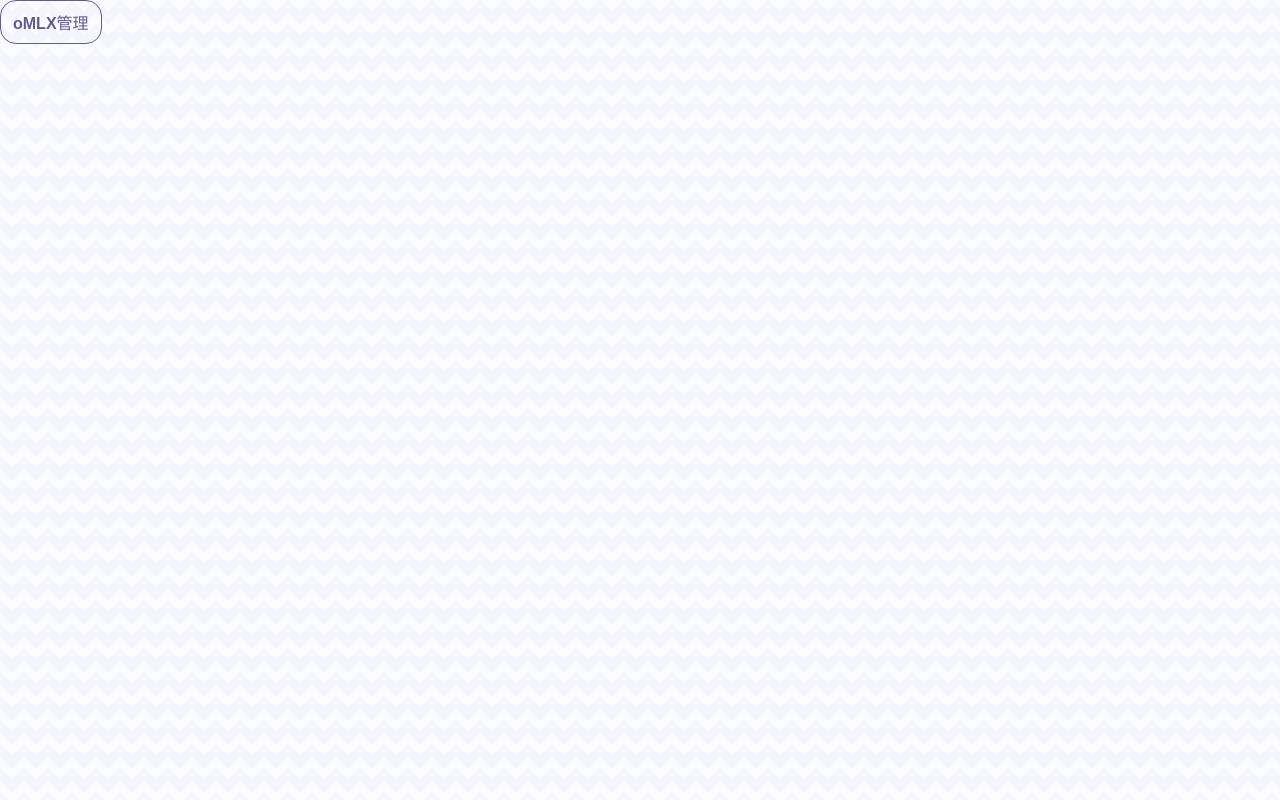
opens management without installing or fetching releases and supports empty state
The width and height of the screenshot is (1280, 800).
Step 1. Click the button "oMLX管理" → (51, 22), box [0,0,102,44]
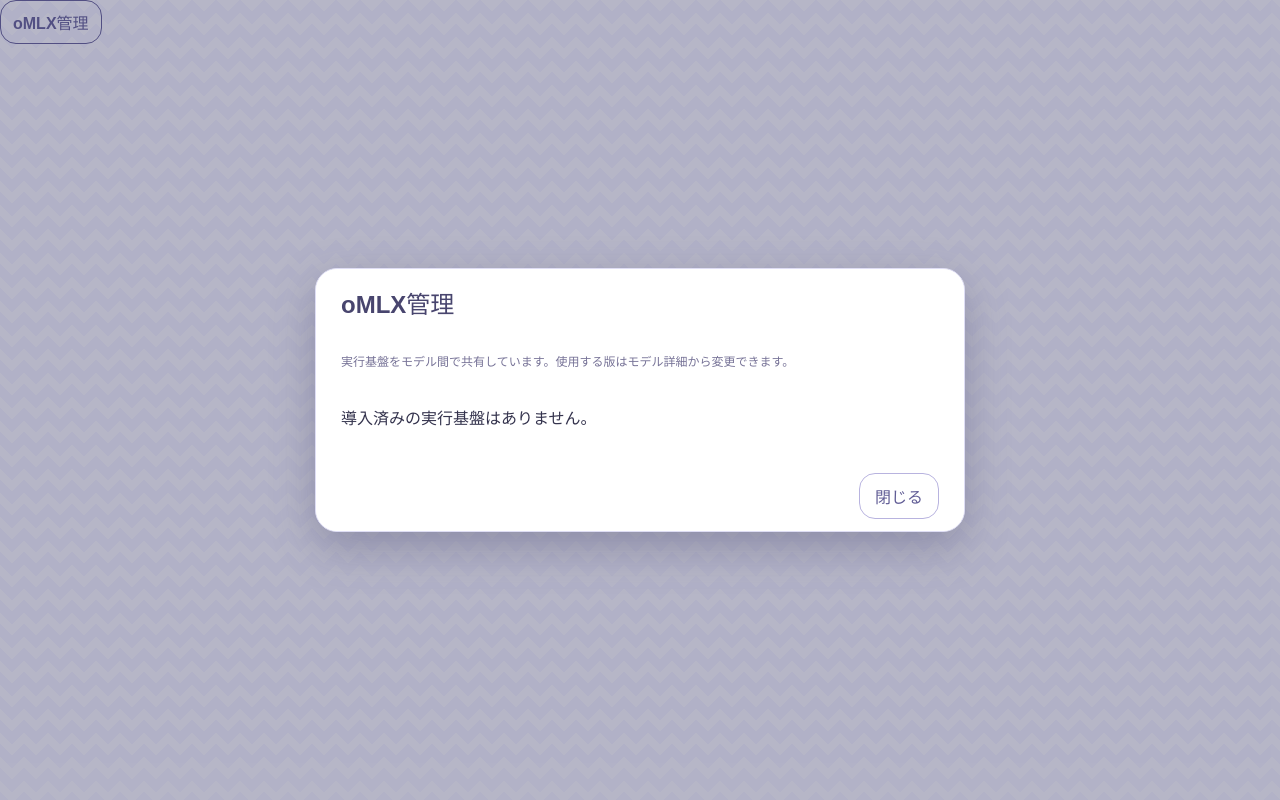
Expected: the text "導入済みの実行基盤はありません。" is shown, [341,410,596,427]
Step 2. Click the button "閉じる" → (899, 496), box [859,473,939,519]
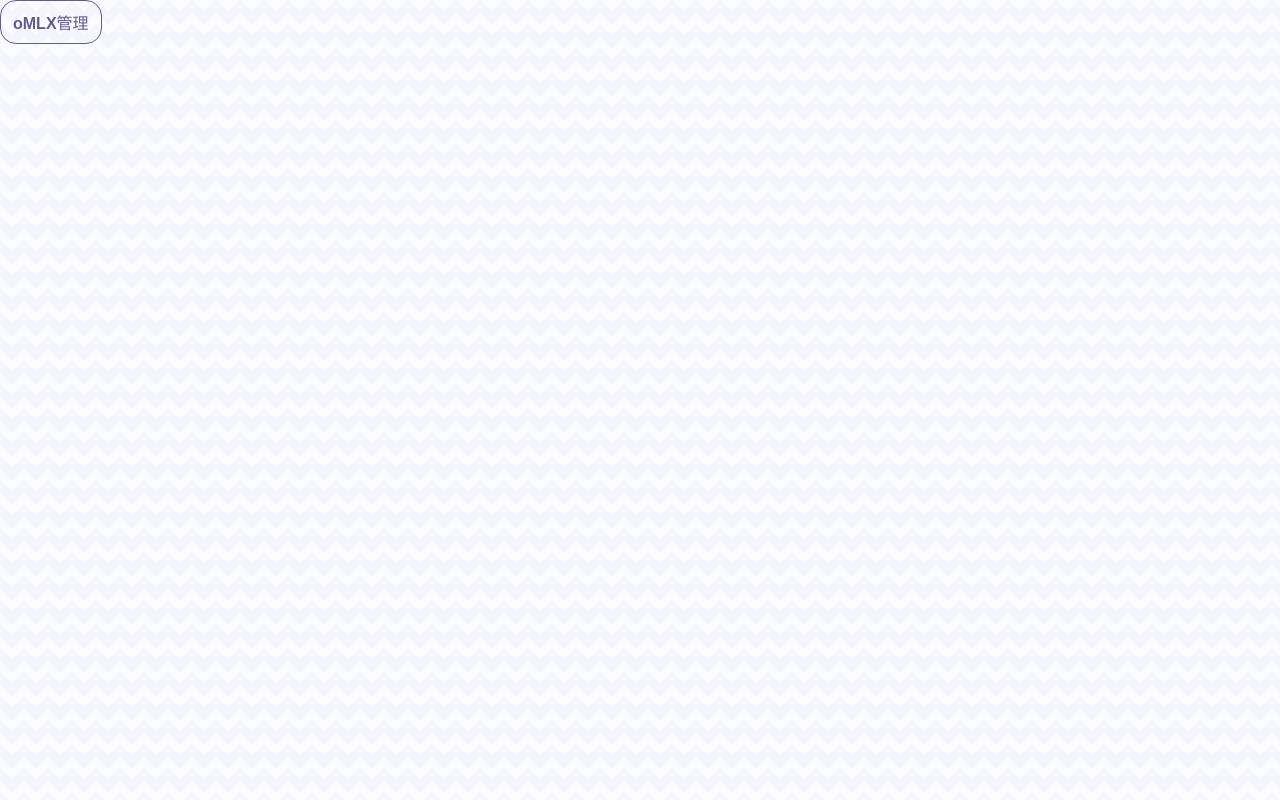
Expected: the dialog is gone
